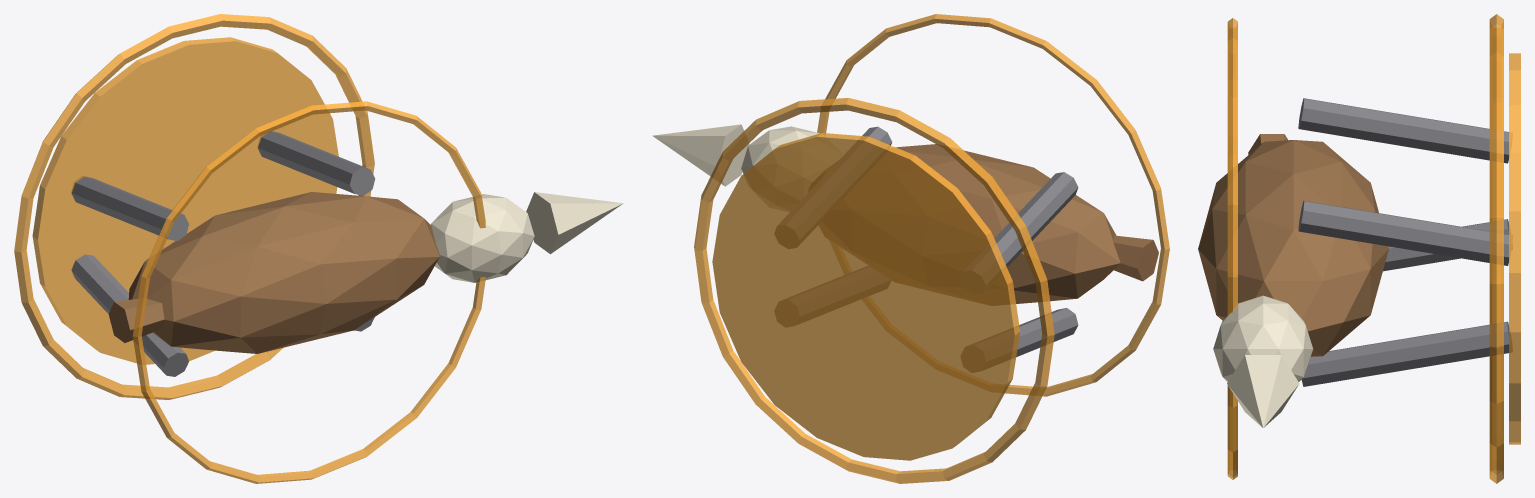
Rendered from quadruped_pounce_pose.glb.
The picture shows the model from 3 angles, left to right: view 1: azimuth 30°, elevation 25°; view 2: azimuth 150°, elevation 25°; view 3: azimuth 270°, elevation 25°; orthographic projection. The views are drawn at different scales.
Visible parts, largest first — view 1: marker_disc, body, marker_ring, pounce_arc, head, leg_3, leg_1, snout, leg_0, tail; view 2: marker_disc, body, marker_ring, pounce_arc, head, leg_1, leg_3, leg_0, snout, leg_2, tail; view 3: body, marker_ring, leg_1, leg_3, leg_2, head, marker_disc, pounce_arc, snout, leg_0.
Boxes of the visible parts, left/top/right/bottom form: marker_disc: left=32, top=37, right=338, bottom=364; body: left=128, top=192, right=439, bottom=353; marker_ring: left=14, top=14, right=374, bottom=399; pounce_arc: left=132, top=101, right=485, bottom=483; head: left=431, top=194, right=534, bottom=282; leg_3: left=258, top=131, right=375, bottom=195; leg_1: left=71, top=176, right=188, bottom=241; snout: left=526, top=192, right=623, bottom=254; leg_0: left=71, top=254, right=188, bottom=376; tail: left=108, top=298, right=164, bottom=342; marker_disc: left=712, top=133, right=1020, bottom=460; body: left=809, top=144, right=1120, bottom=305; marker_ring: left=694, top=98, right=1054, bottom=483; pounce_arc: left=817, top=14, right=1169, bottom=396; head: left=741, top=126, right=842, bottom=211; leg_1: left=961, top=172, right=1078, bottom=293; leg_3: left=775, top=126, right=891, bottom=248; leg_0: left=961, top=308, right=1078, bottom=372; snout: left=652, top=124, right=749, bottom=186; leg_2: left=775, top=266, right=890, bottom=326; tail: left=1113, top=235, right=1158, bottom=281; body: left=1198, top=140, right=1388, bottom=356; marker_ring: left=1489, top=14, right=1503, bottom=483; leg_1: left=1298, top=98, right=1512, bottom=163; leg_3: left=1298, top=200, right=1512, bottom=265; leg_2: left=1301, top=321, right=1512, bottom=386; head: left=1213, top=295, right=1312, bottom=381; marker_disc: left=1509, top=53, right=1520, bottom=444; pounce_arc: left=1227, top=18, right=1237, bottom=479; snout: left=1227, top=355, right=1299, bottom=427; leg_0: left=1383, top=219, right=1512, bottom=271.
Bounding box in the file's own units: 2.17 × 1.54 × 1.07.
